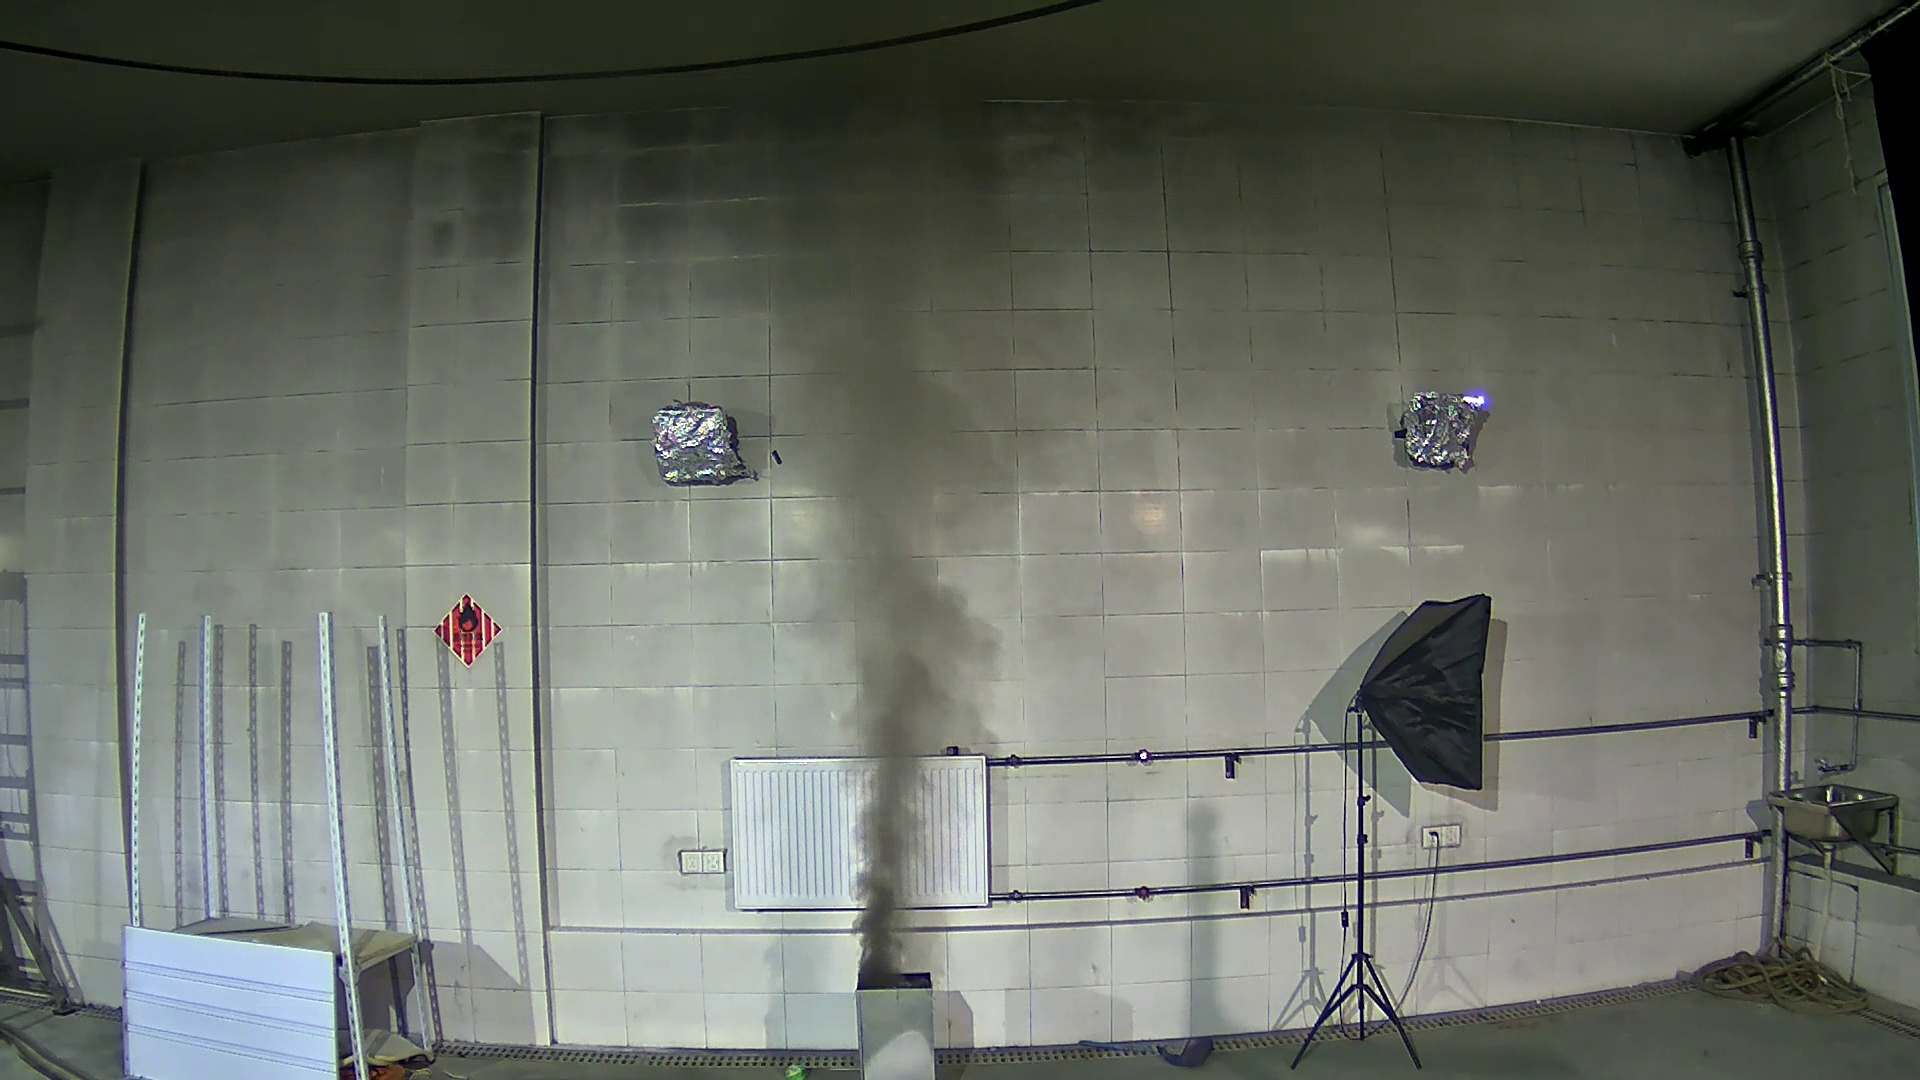smoke: (775, 351, 1025, 975)
